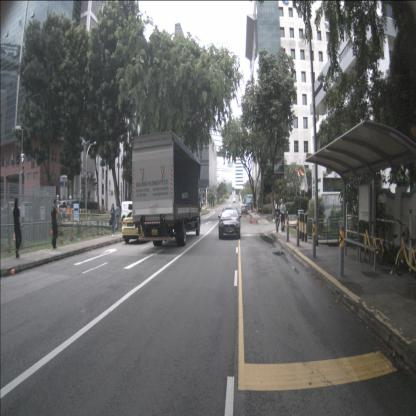cone: (249, 216, 252, 224), (250, 218, 254, 223)
